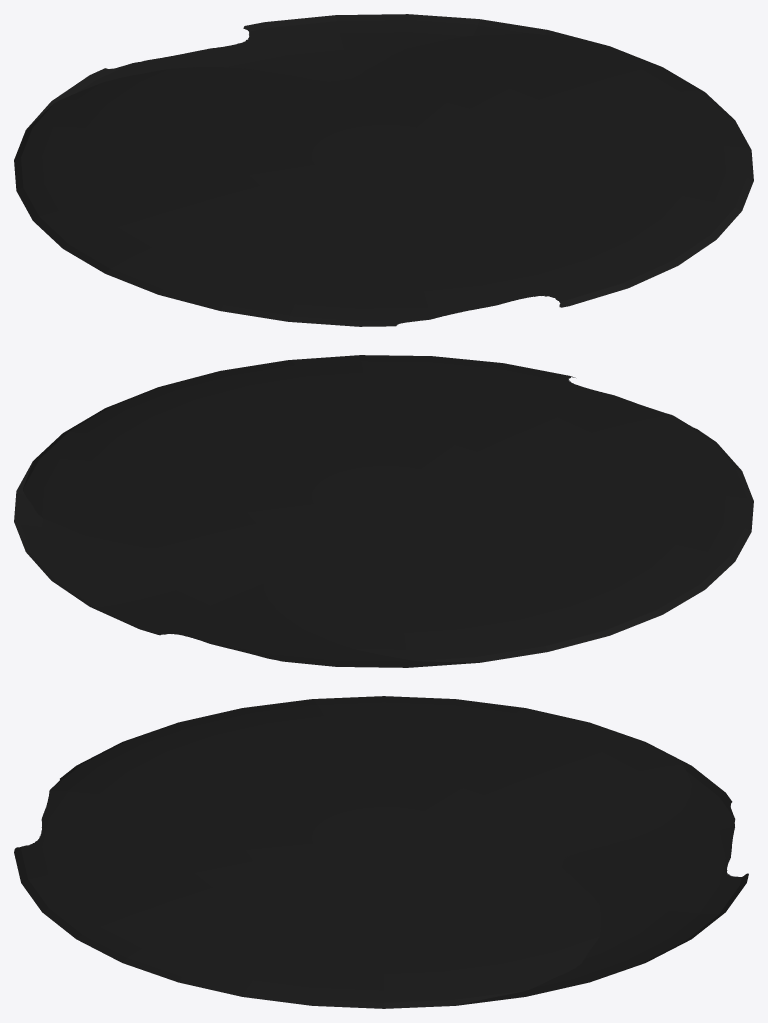
Rendered from motorblade.fbx.
The picture shows the model from 3 angles, top to bottom: view 1: azimuth 30°, elevation 25°; view 2: azimuth 150°, elevation 25°; view 3: azimuth 270°, elevation 25°; orthographic projection.
Visible parts, largest first — view 1: Sphere; view 2: Sphere; view 3: Sphere.
Boxes of the visible parts, left/top/right/bottom form: Sphere: left=14, top=14, right=753, bottom=326; Sphere: left=14, top=355, right=753, bottom=667; Sphere: left=14, top=696, right=748, bottom=1008.
Bounding box in the file's own units: 1250 × 57.92 × 1250.
